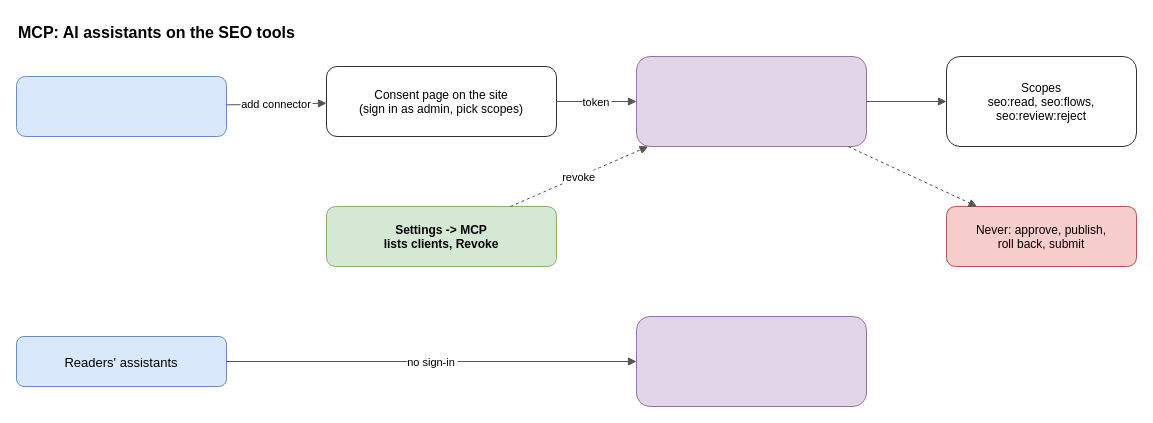
The diagram is 1153 pixels wide and 423 high, and some of its shapes have lost their labels. Here are the shapes that lost their labels. From the top down, the centre of each, then its label:
At pixel 121 106: "Claude (phone / desktop) or MCP Inspector".
At pixel 751 101: "Admin MCP server OAuth 2.1 + PKCE switch ADMIN_MCP_ENABLED".
At pixel 751 361: "Public MCP server published articles only switch PUBLIC_MCP_ENABLED".
